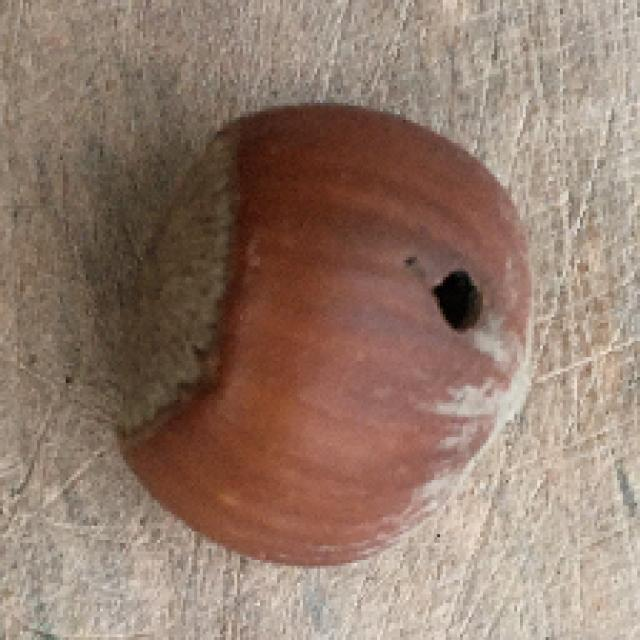damagedHazelnut: (112, 97, 542, 584)
